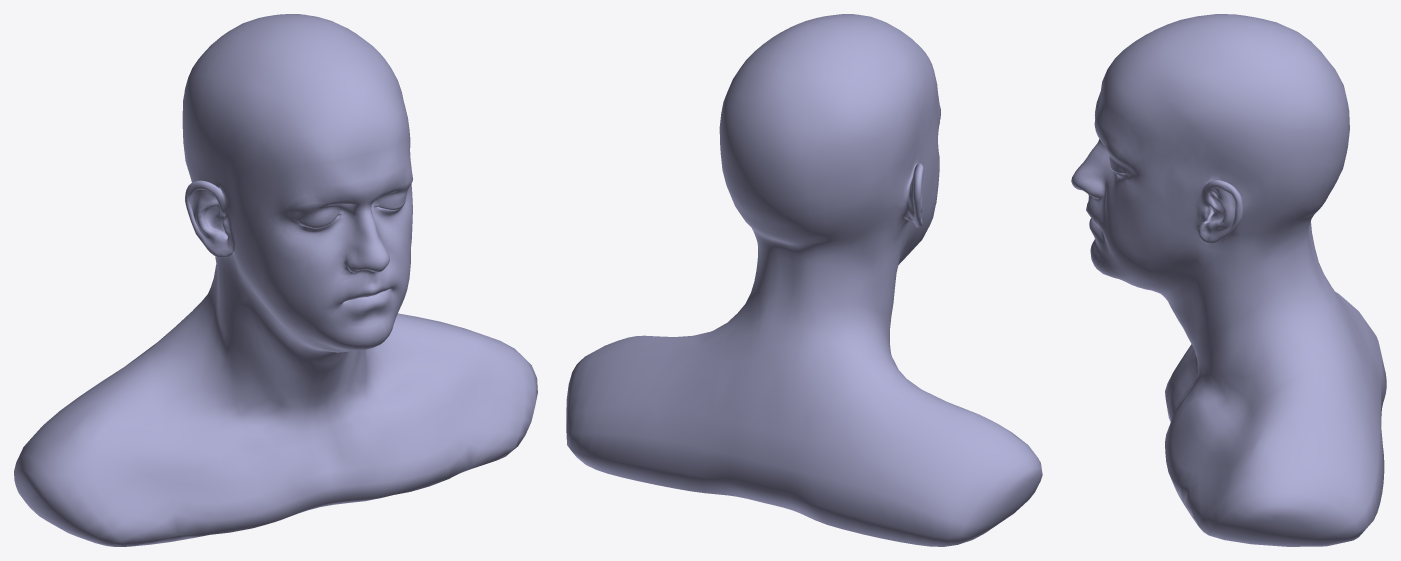
Rendered from head.obj.
3 renders of one model, left to right at view 1: azimuth 30°, elevation 25°; view 2: azimuth 150°, elevation 25°; view 3: azimuth 270°, elevation 25°, orthographic. The views are drawn at different scales.
Visible parts, largest first — view 1: LeePerrySmith; view 2: LeePerrySmith; view 3: LeePerrySmith.
Part boxes in pixels (<box>): LeePerrySmith: <box>14,14,537,546</box>; LeePerrySmith: <box>566,14,1042,546</box>; LeePerrySmith: <box>1071,14,1386,546</box>.
Bounding box in the file's own units: 8.55 × 7.95 × 5.18.
